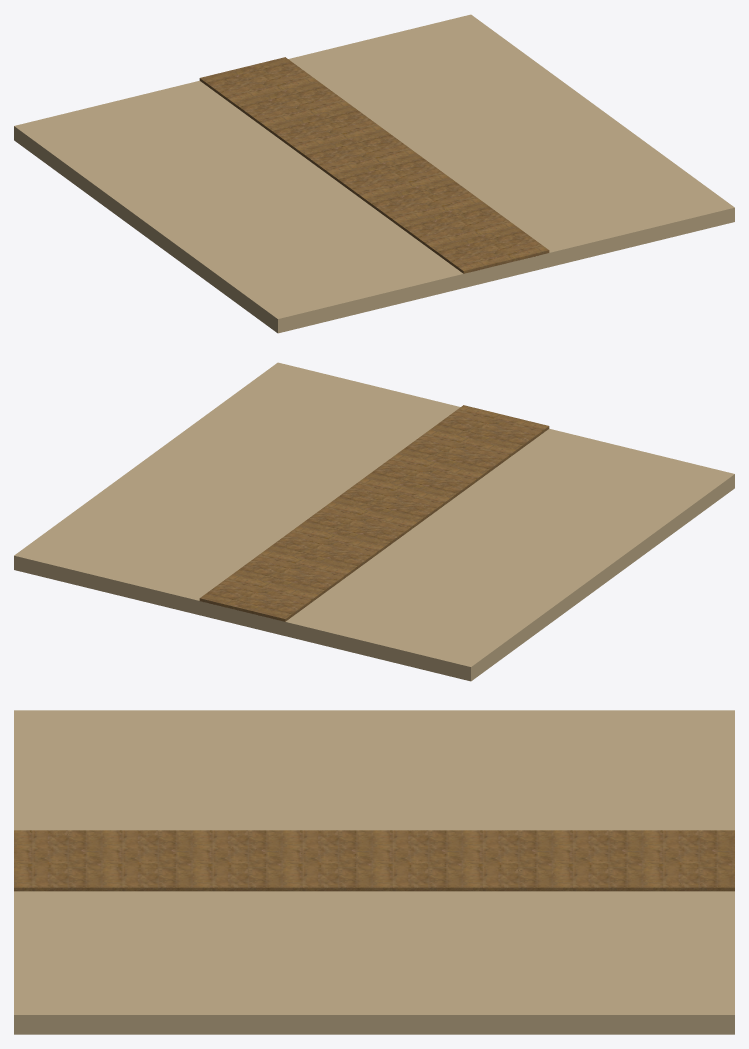
File: estrada.glb
The picture shows the model from 3 angles, top to bottom: view 1: azimuth 30°, elevation 25°; view 2: azimuth 150°, elevation 25°; view 3: azimuth 270°, elevation 25°; orthographic projection. The views are drawn at different scales.
Parts seen in each view (by area): view 1: Base ilustrativa, Caminho; view 2: Base ilustrativa, Caminho; view 3: Base ilustrativa, Caminho.
Boxes of the visible parts, bbox=[...] form: Base ilustrativa: bbox=[14, 14, 734, 333]; Caminho: bbox=[199, 57, 549, 273]; Base ilustrativa: bbox=[14, 362, 734, 681]; Caminho: bbox=[199, 405, 549, 621]; Base ilustrativa: bbox=[14, 710, 734, 1034]; Caminho: bbox=[14, 830, 734, 891].
Size of the model in its own units: 8 by 0.285 by 8.
Materials: 2 (1 with a texture image).
